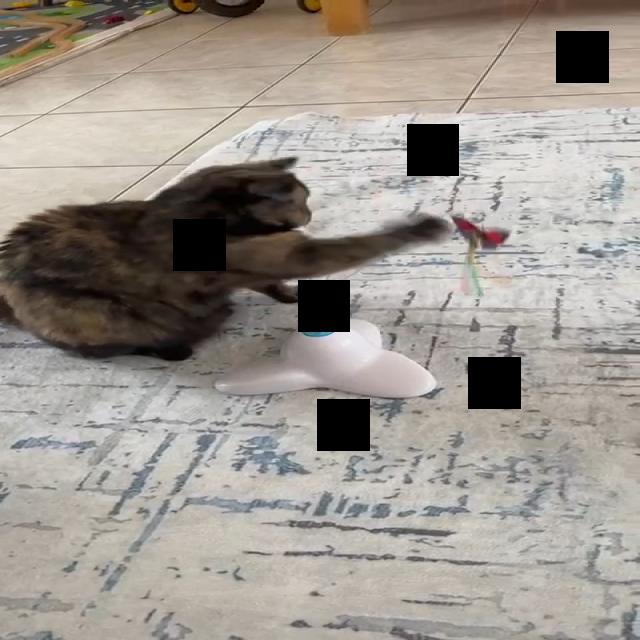authorized: (0, 154, 453, 362)
